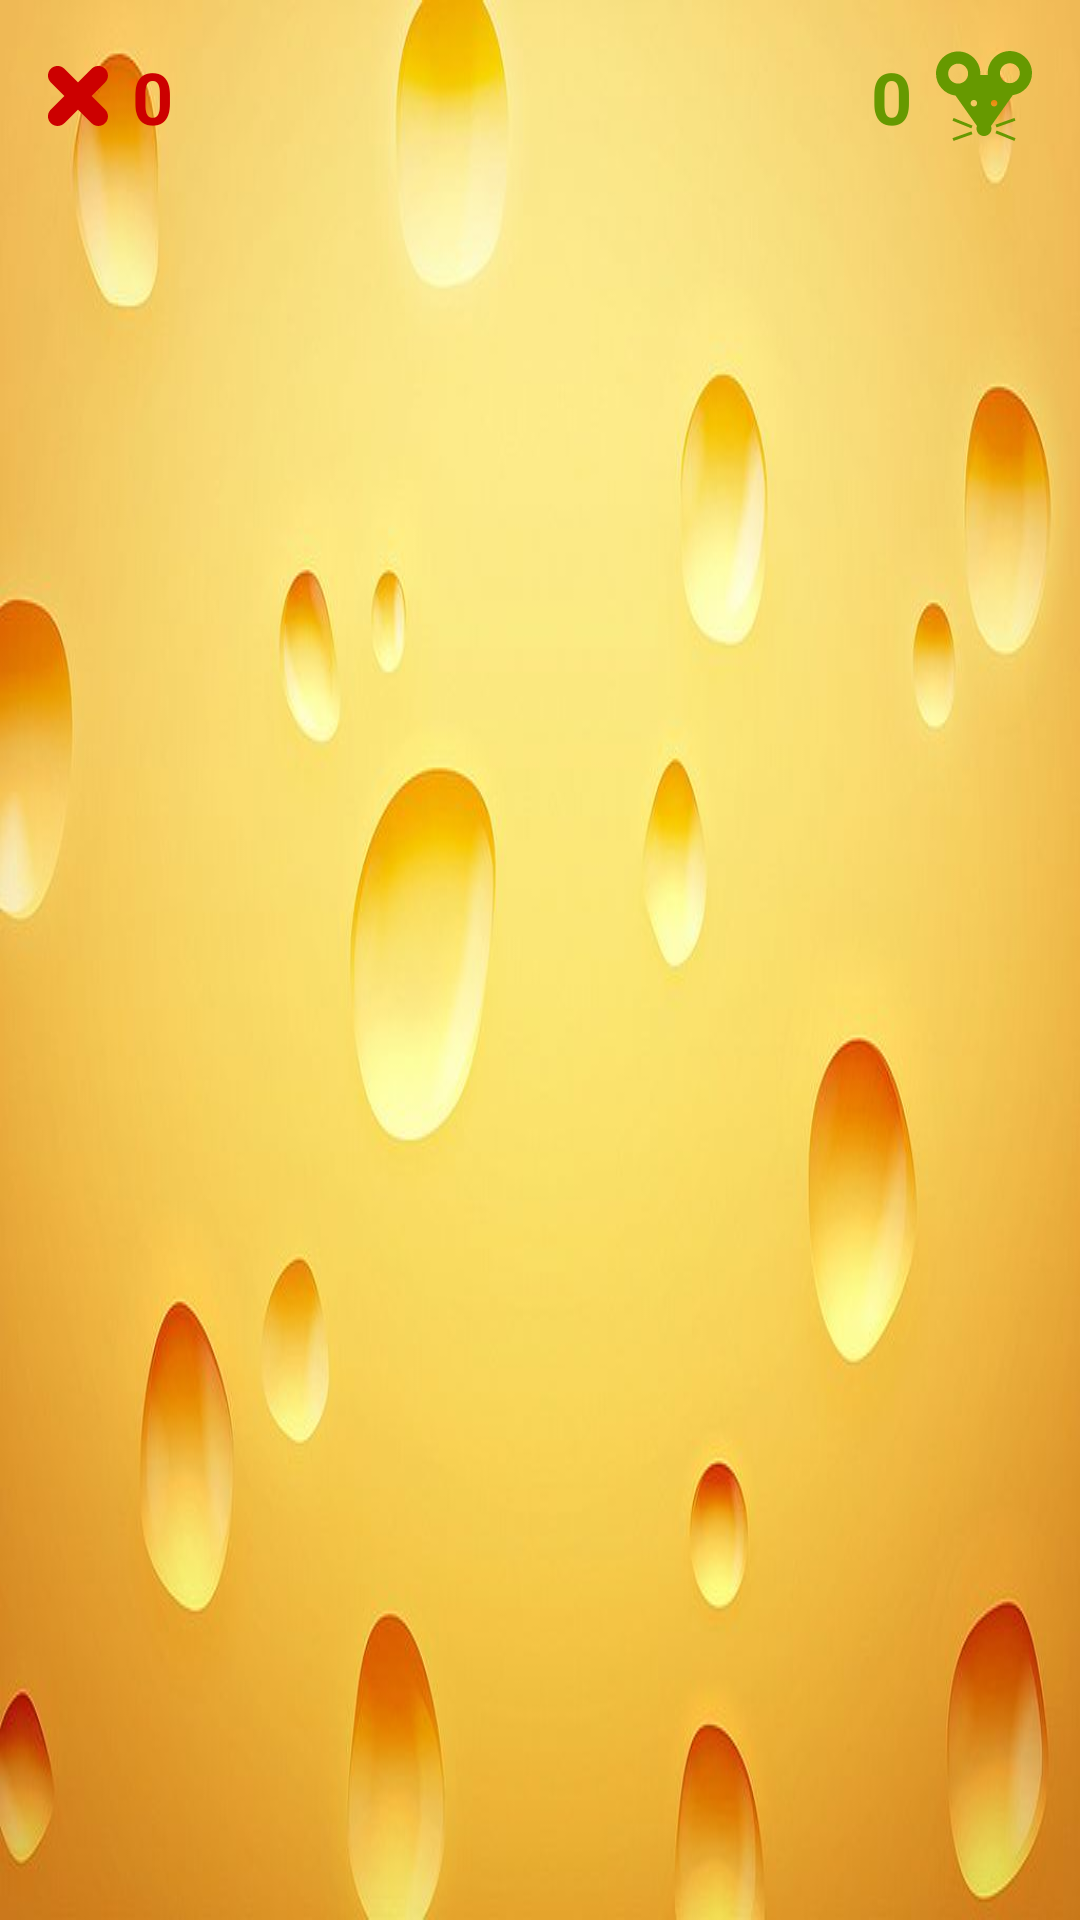

Point at icon controls on the screen. Image size 1080 x 1920, points as point (x, y).
hit: point (984, 96)
miss: point (78, 96)
